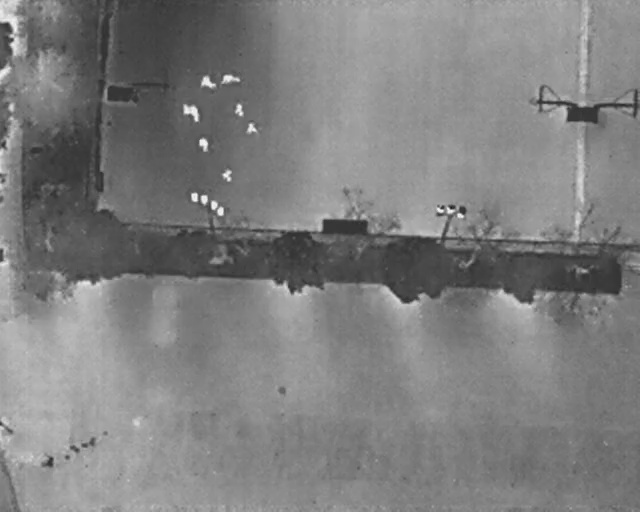Person: (199, 75, 218, 90), (188, 104, 202, 124), (219, 73, 242, 85), (198, 135, 210, 154), (220, 167, 233, 183), (245, 121, 258, 135), (234, 102, 245, 118), (182, 102, 191, 116)
